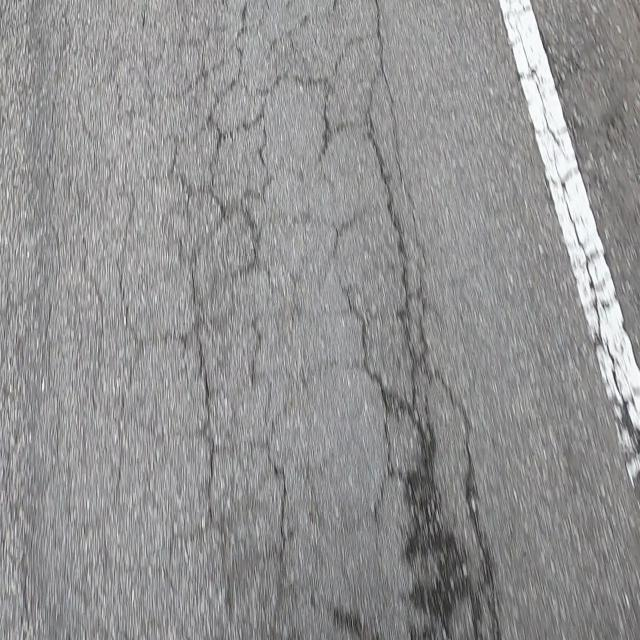Retak-Buaya: (38, 0, 504, 640)
